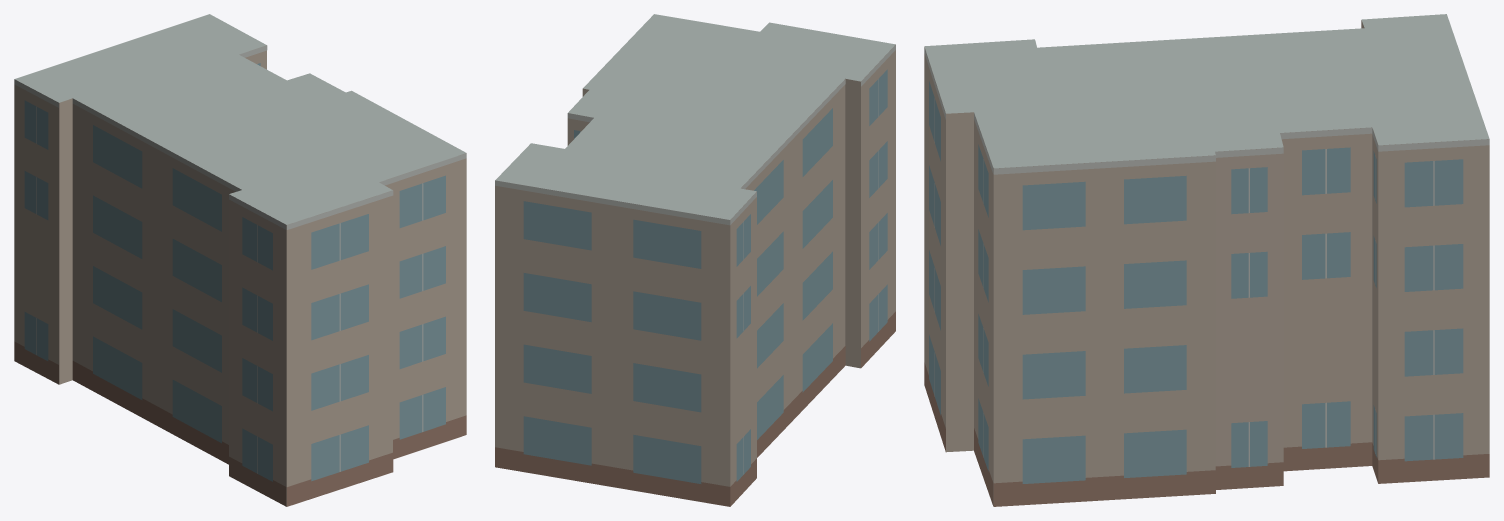
File: survey-upis-32970765.glb
3 views of the same model, side by side, from view 1: azimuth 30°, elevation 25°; view 2: azimuth 150°, elevation 25°; view 3: azimuth 270°, elevation 25° (orthographic). The views are drawn at different scales.
Visible parts, largest first — view 1: survey-upis-32970765.tmp; view 2: survey-upis-32970765.tmp; view 3: survey-upis-32970765.tmp.
Part boxes in pixels (x1=…): survey-upis-32970765.tmp: x1=14, y1=14, x2=466, y2=506; survey-upis-32970765.tmp: x1=495, y1=14, x2=895, y2=506; survey-upis-32970765.tmp: x1=924, y1=14, x2=1489, y2=506.
Size of the model in its own units: 12.83 by 13.1 by 19.84.
